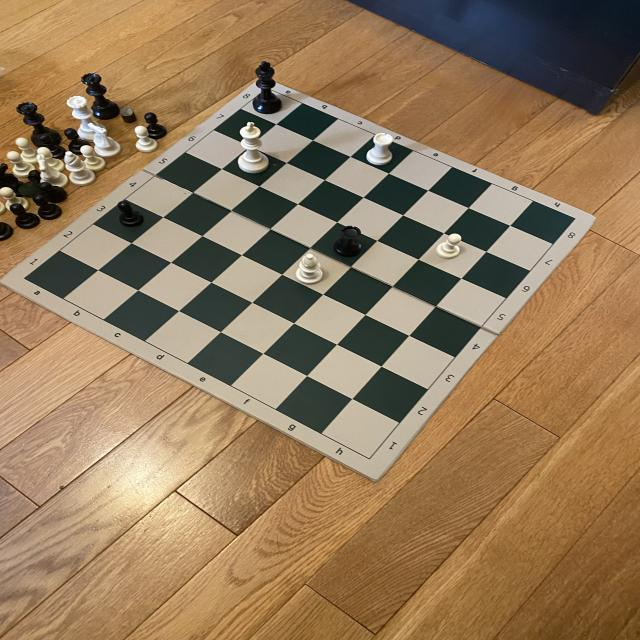Chessboard-Corners: (17, 272, 33, 282), (566, 215, 584, 222), (365, 453, 378, 462)
